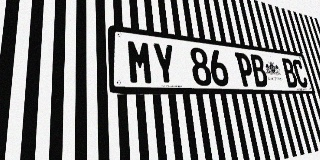6: (207, 49, 230, 86)
8: (189, 47, 213, 86)
B: (249, 54, 269, 87), (281, 58, 299, 87)
C: (291, 59, 309, 88)
M: (126, 39, 154, 85)
P: (234, 52, 256, 87)
Y: (151, 42, 178, 85)
